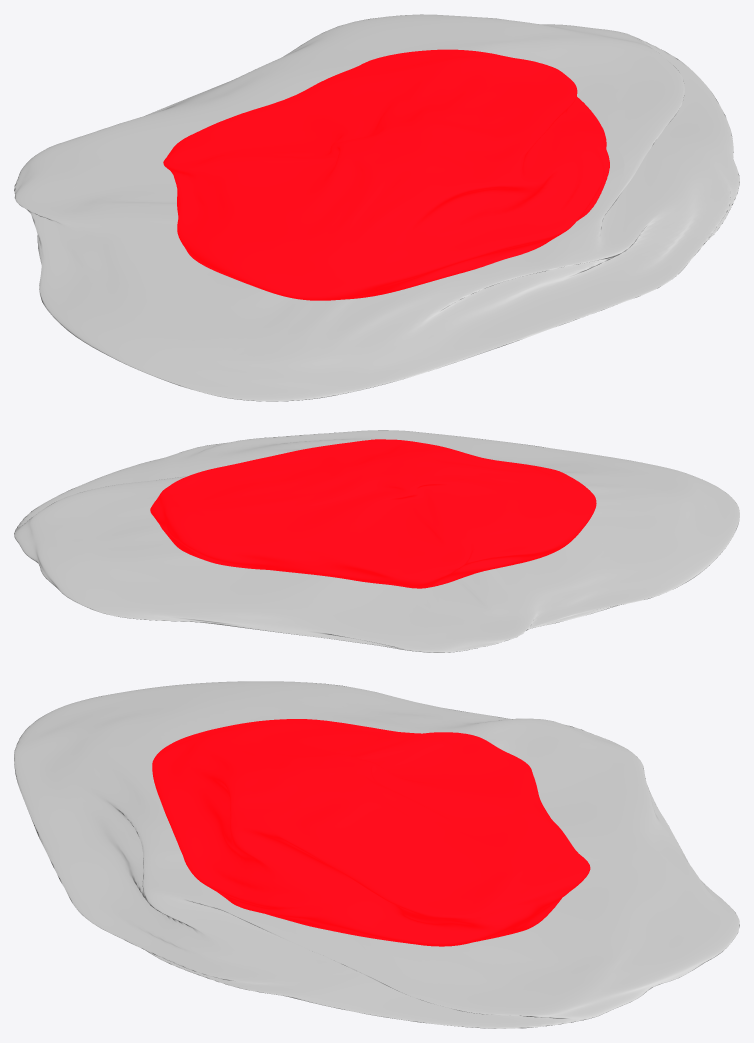
Rendered from llajuita (1).fbx.
3 renders of one model, top to bottom at view 1: azimuth 30°, elevation 25°; view 2: azimuth 150°, elevation 25°; view 3: azimuth 270°, elevation 25°, orthographic. The views are drawn at different scales.
Parts seen in each view (by area): view 1: LlajuaBolsa, LlajuaLiquido; view 2: LlajuaBolsa, LlajuaLiquido; view 3: LlajuaBolsa, LlajuaLiquido.
Part boxes in pixels (x1,y1,x2,y2): LlajuaBolsa: [14, 14, 739, 401]; LlajuaLiquido: [163, 49, 609, 300]; LlajuaBolsa: [14, 430, 739, 652]; LlajuaLiquido: [150, 439, 596, 588]; LlajuaBolsa: [14, 681, 739, 1028]; LlajuaLiquido: [152, 719, 590, 946].
Size of the model in its own units: 223 by 25.03 by 198.
